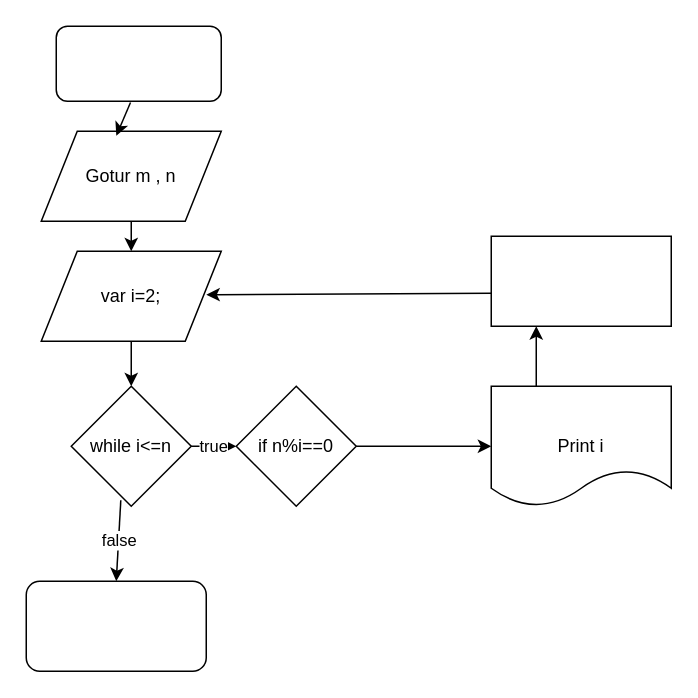
Some shapes in this 698 by 698 pixel diagram are drawn without their labels. The centre of each missing label's shape, as x and y in pixels:
Begin: pixel 138 63
End: pixel 115 625
i++;: pixel 580 280
